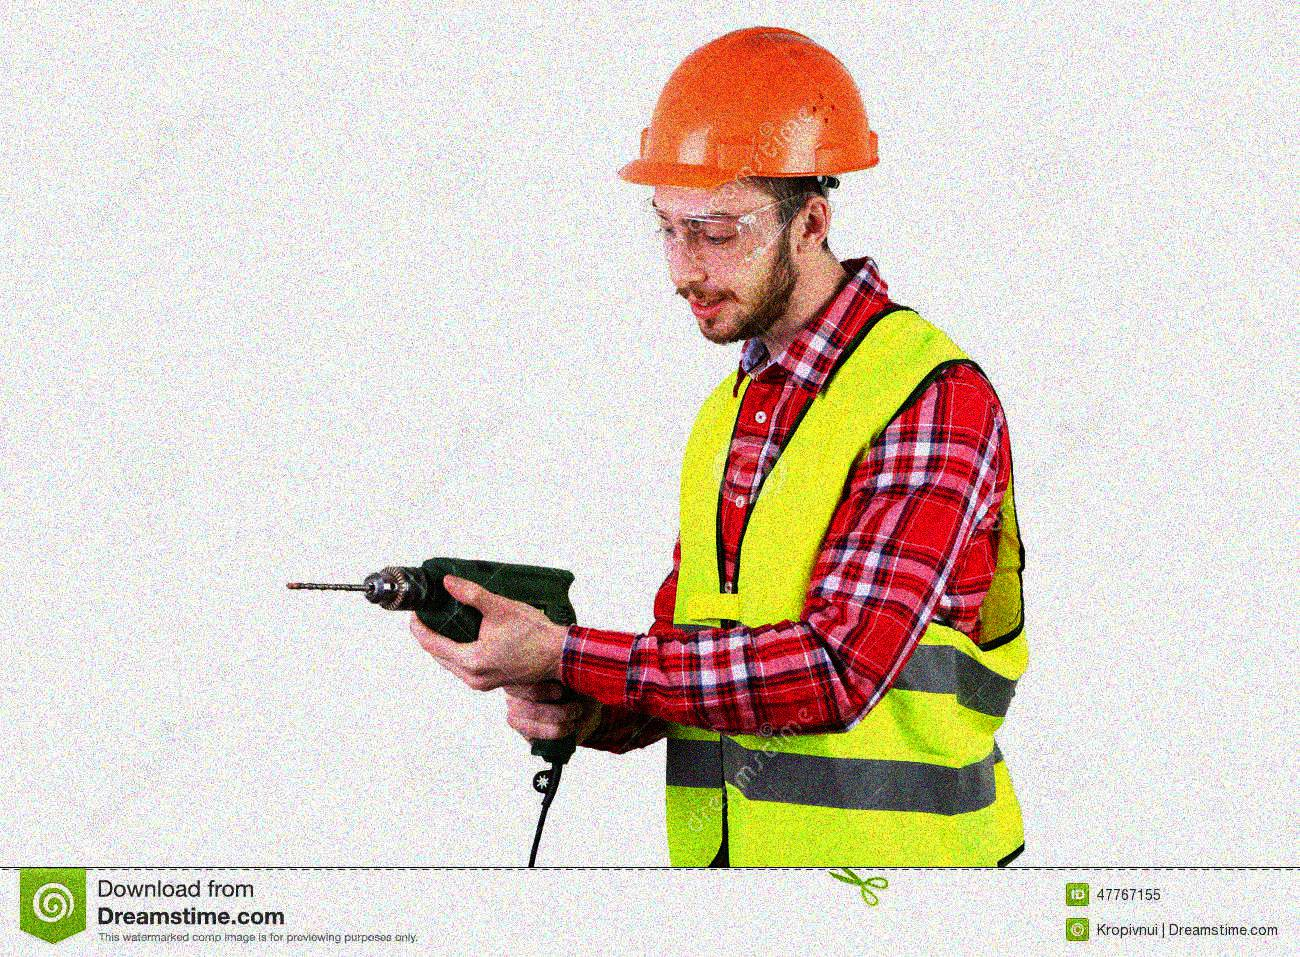helmet: (613, 25, 883, 348)
